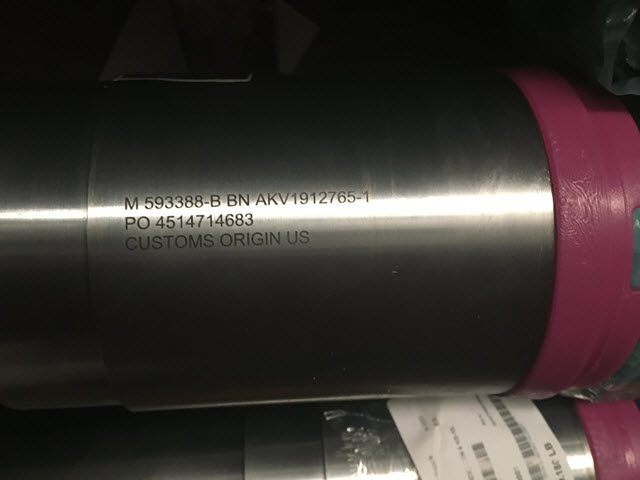character: (148, 232, 165, 255), (230, 230, 247, 252), (267, 229, 283, 251), (120, 194, 140, 211), (122, 234, 139, 254), (235, 191, 252, 210), (187, 231, 203, 251), (283, 226, 299, 246), (137, 232, 152, 253), (162, 232, 176, 253), (250, 229, 263, 251), (140, 192, 155, 211), (134, 215, 151, 231), (216, 230, 233, 246), (151, 194, 166, 212), (173, 233, 188, 251), (201, 231, 215, 250), (296, 228, 310, 247), (233, 211, 247, 229), (171, 192, 184, 211), (183, 212, 196, 231), (225, 191, 239, 208), (253, 190, 267, 207), (208, 191, 221, 209), (277, 189, 290, 207), (264, 191, 279, 206), (190, 193, 204, 209), (122, 215, 136, 231), (164, 213, 176, 231), (193, 212, 205, 230), (244, 211, 256, 228), (261, 226, 270, 248), (153, 215, 165, 231), (174, 214, 186, 230), (201, 190, 211, 209), (183, 193, 194, 210), (163, 194, 174, 210), (345, 188, 356, 204), (224, 211, 235, 227), (360, 189, 371, 204), (213, 212, 224, 227), (243, 229, 252, 247), (299, 189, 309, 205), (325, 190, 337, 203), (317, 190, 328, 204), (335, 189, 346, 203), (206, 212, 215, 229), (289, 191, 299, 206), (308, 190, 317, 204), (355, 190, 363, 204)
